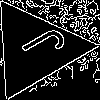J: (10, 23, 69, 70)
